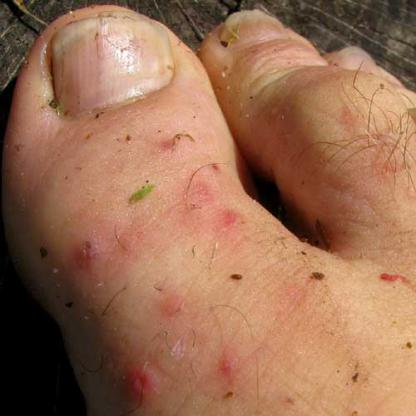Fire ant: (119, 360, 160, 404), (374, 266, 412, 294), (68, 240, 99, 272), (216, 202, 242, 232), (154, 132, 180, 154), (217, 354, 236, 376)
